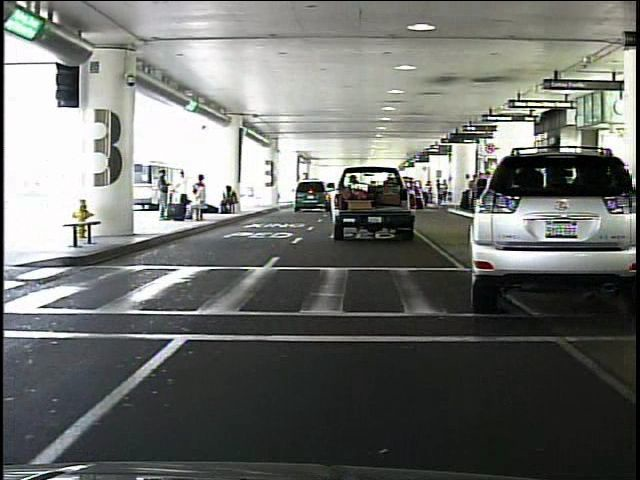person: (154, 166, 174, 220)
